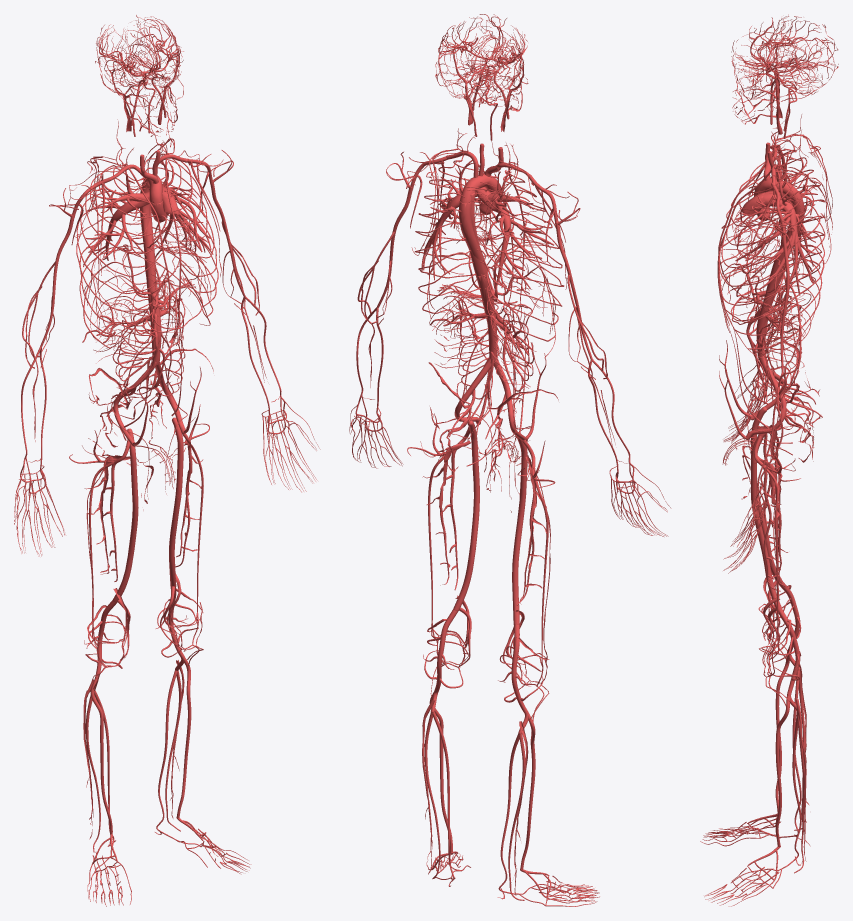
The model's file is arterie.glb.
3 views of the same model, side by side, from view 1: azimuth 30°, elevation 25°; view 2: azimuth 150°, elevation 25°; view 3: azimuth 270°, elevation 25° (orthographic). The views are drawn at different scales.
Parts seen in each view (by area): view 1: FJ1961, FJ1975, FJ2074, FJ2143, FJ3427, FJ2065; view 2: FJ1961, FJ1975, FJ2074, FJ2143, FJ3427; view 3: FJ1975, FJ1961, FJ2074, FJ2065, FJ2143, FJ1932, FJ2219, FJ2130, FJ2063, FJ2086, FJ2094, FJ3427 (+11 smaller).
Boxes of the visible parts, x1,y1,x2,y2 form: FJ1961: (76,167,166,348); FJ1975: (140,158,218,323); FJ2074: (169,417,183,587); FJ2143: (113,428,138,602); FJ3427: (140,187,159,366); FJ2065: (177,657,191,818); FJ1961: (467,189,564,351); FJ1975: (414,179,502,326); FJ2074: (453,420,479,611); FJ2143: (512,433,527,624); FJ3427: (459,201,497,359); FJ1975: (718,179,825,352); FJ1961: (721,157,825,300); FJ2074: (750,433,782,611); FJ2065: (775,695,790,846); FJ2143: (751,407,782,583); FJ1932: (756,272,782,360); FJ2219: (780,231,789,372); FJ2130: (775,656,789,813); FJ2063: (763,466,779,652); FJ2086: (778,609,800,710); FJ2094: (754,435,780,591); FJ3427: (758,199,804,358).
Bounding box in the file's own units: 0.6488 × 1.7 × 0.2522.
